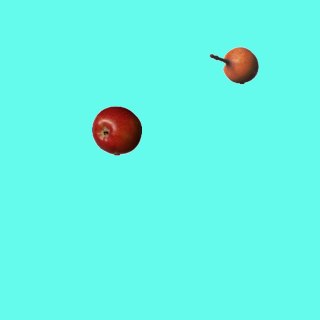Apple Braeburn: (91, 105, 141, 155)
Granadilla: (208, 40, 258, 90)
